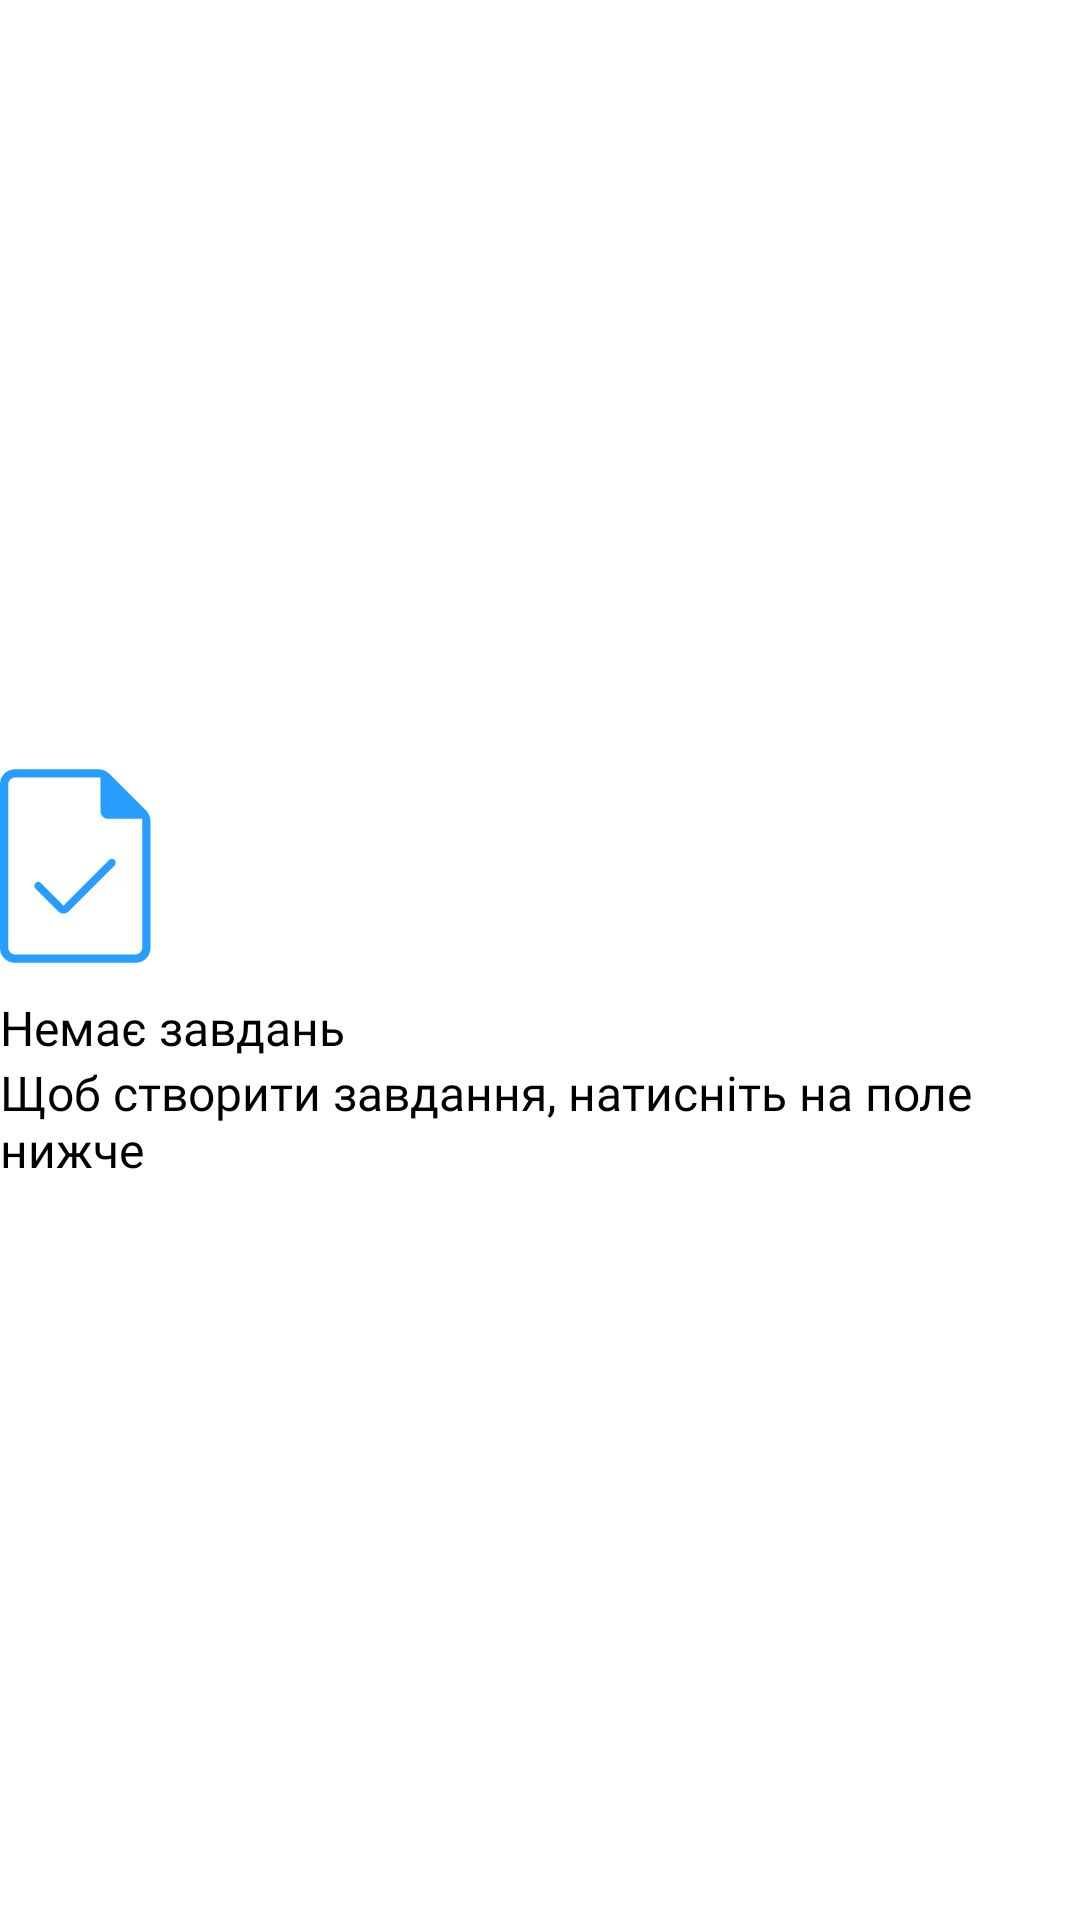

Named icons in this screenshot (1080px x 1920px) and their centers, [x,y]:
task: [75,866]
